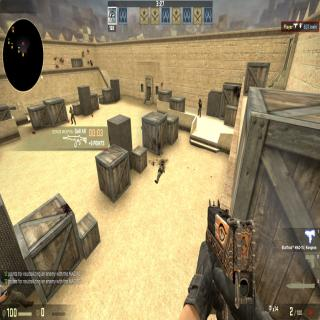CT-Body: (197, 98, 202, 117)
CT-Head: (199, 98, 201, 102)
T-Body: (69, 106, 75, 124)
T-Head: (70, 106, 72, 110)
